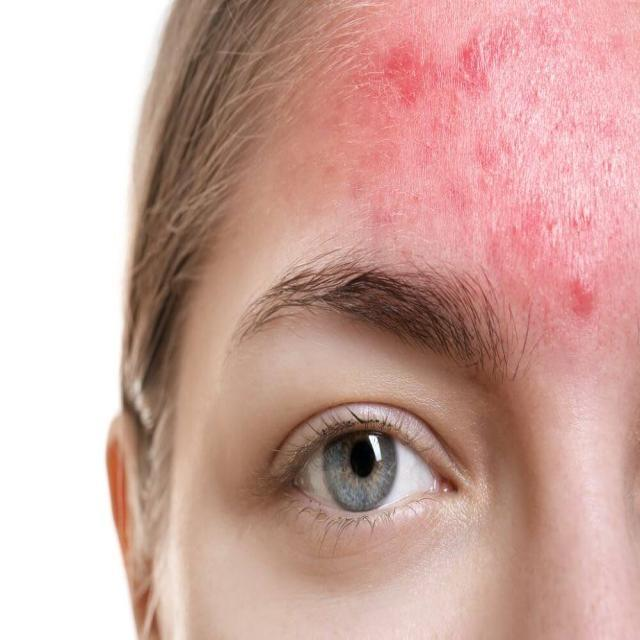Rosacea: (326, 1, 612, 327)
